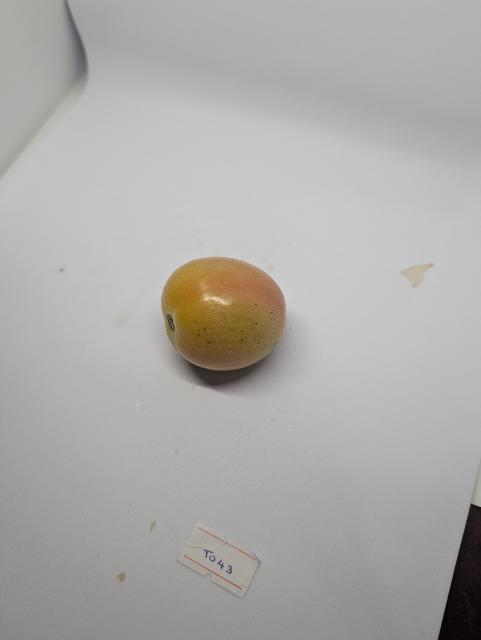turning: (150, 248, 300, 385)
